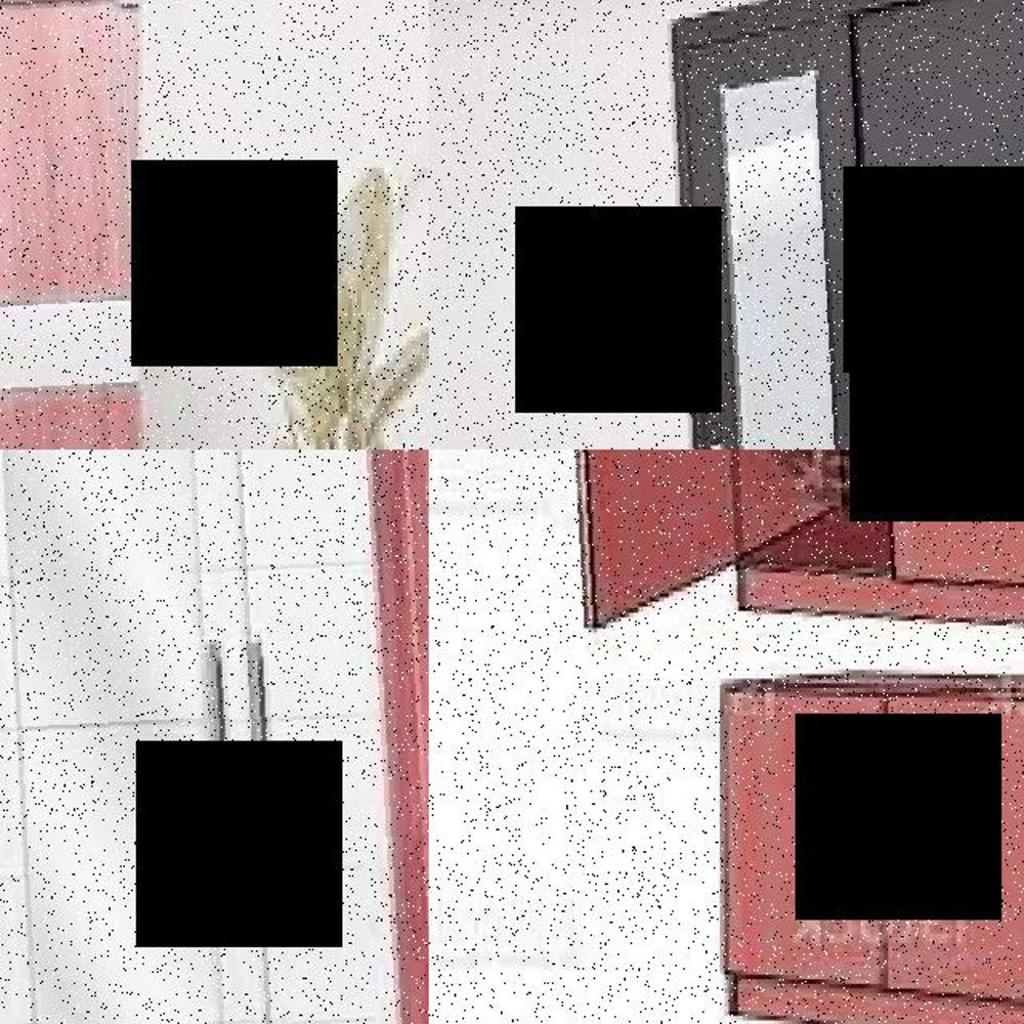cabinet: (0, 450, 429, 1024), (672, 0, 1024, 450), (682, 677, 1024, 1024), (541, 450, 1024, 666), (0, 0, 186, 450)
